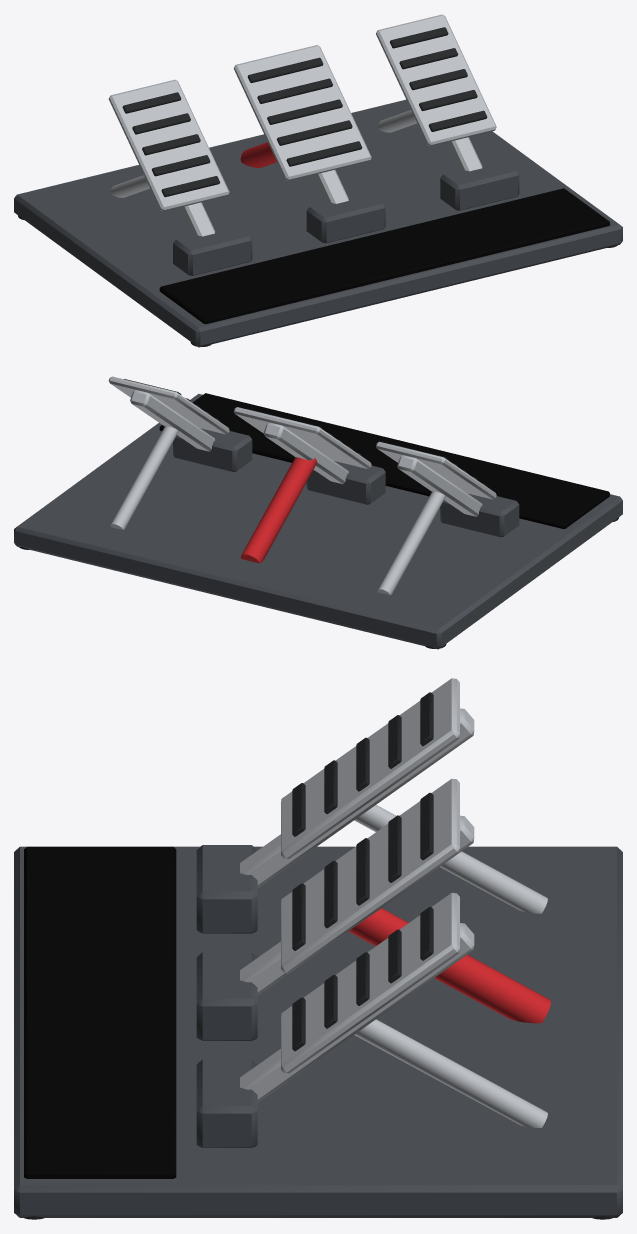
The model's file is racing-pedals.glb.
The picture shows the model from 3 angles, top to bottom: view 1: azimuth 30°, elevation 25°; view 2: azimuth 150°, elevation 25°; view 3: azimuth 270°, elevation 25°; orthographic projection. The views are drawn at different scales.
Visible parts, largest first — view 1: Pedal_Base, Brake_Pedal, Throttle_Pedal, Clutch_Pedal; view 2: Pedal_Base, Brake_Pedal, Clutch_Pedal, Throttle_Pedal; view 3: Pedal_Base, Brake_Pedal, Clutch_Pedal, Throttle_Pedal.
Part boxes in pixels (x1,y1,x2,y2): Pedal_Base: [14, 99, 622, 347]; Brake_Pedal: [233, 45, 371, 203]; Throttle_Pedal: [376, 14, 496, 171]; Clutch_Pedal: [108, 79, 229, 236]; Pedal_Base: [14, 393, 622, 649]; Brake_Pedal: [233, 407, 371, 484]; Clutch_Pedal: [376, 441, 496, 516]; Throttle_Pedal: [108, 376, 229, 451]; Pedal_Base: [14, 805, 622, 1219]; Brake_Pedal: [240, 778, 474, 995]; Clutch_Pedal: [240, 678, 474, 888]; Throttle_Pedal: [240, 893, 474, 1102].
Bounding box in the file's own units: 0.4 × 0.1291 × 0.3.
5 materials, 1 textured.
